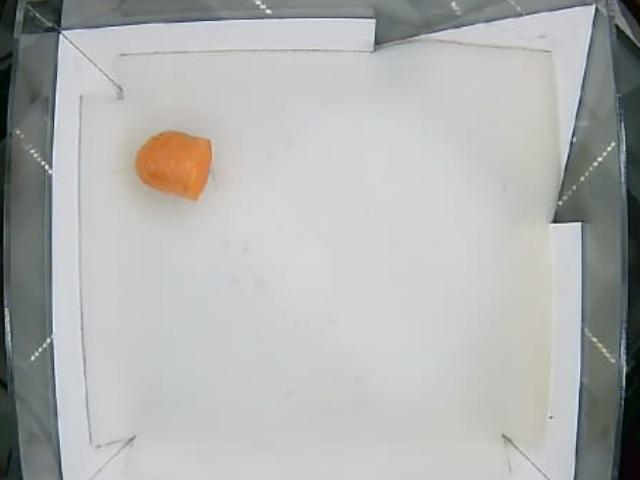Carrot: (135, 130, 214, 198)
